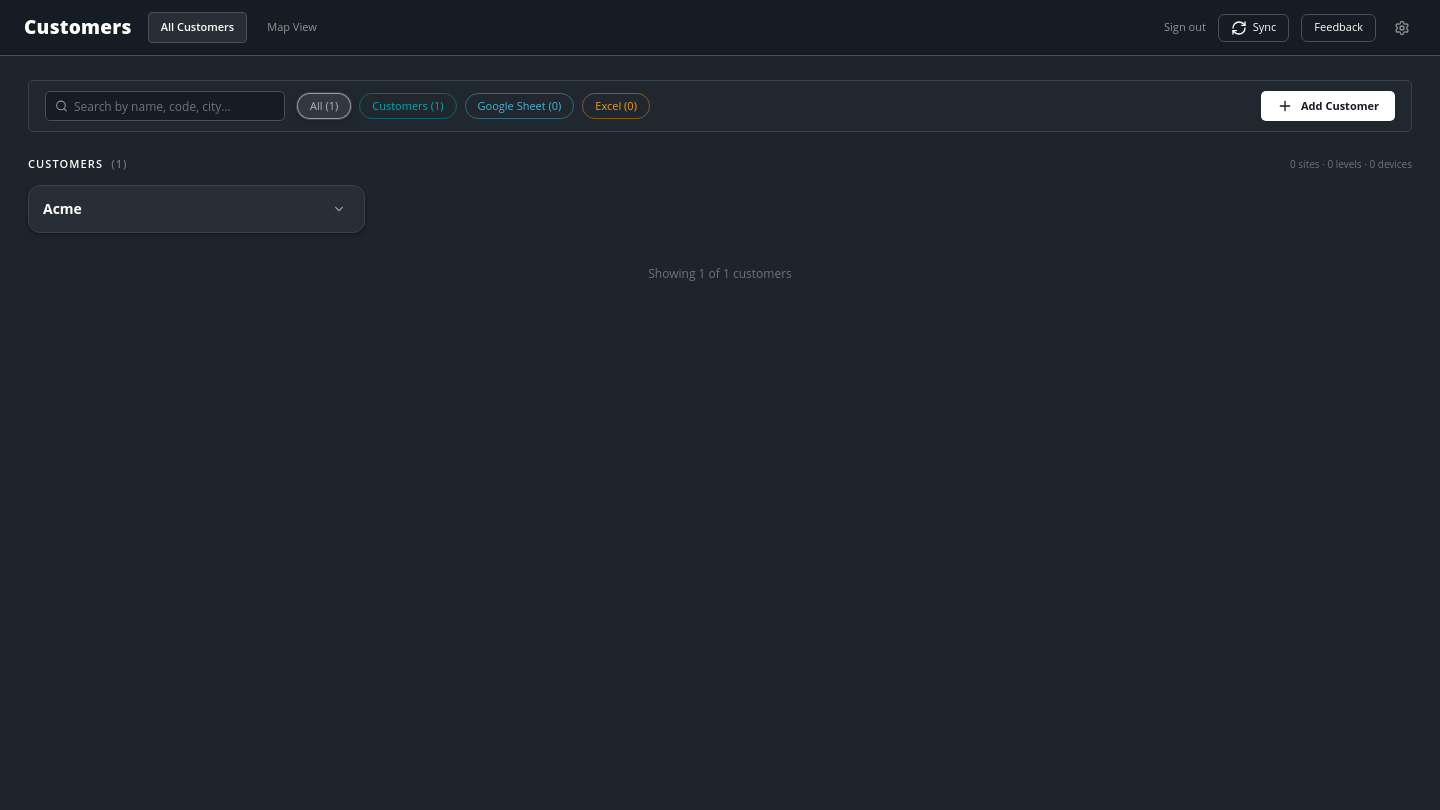
Test: Drive site-configs › asks before reloading an imported customer, offering merge and full reload
Click the button named "expand details" at (339, 208), box [328, 198, 350, 220]
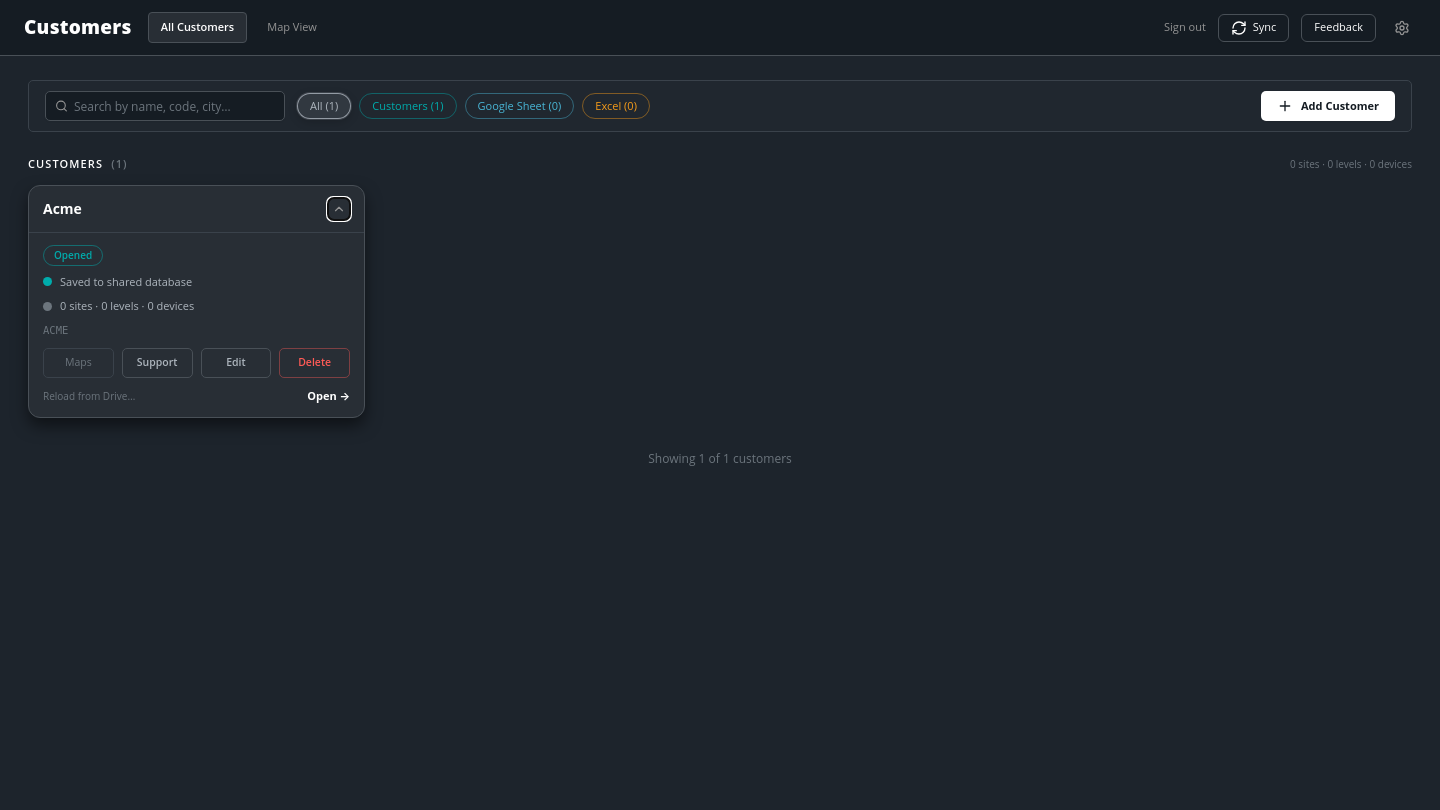
Click the button "Reload from Drive…" at (89, 396), box [43, 389, 135, 404]
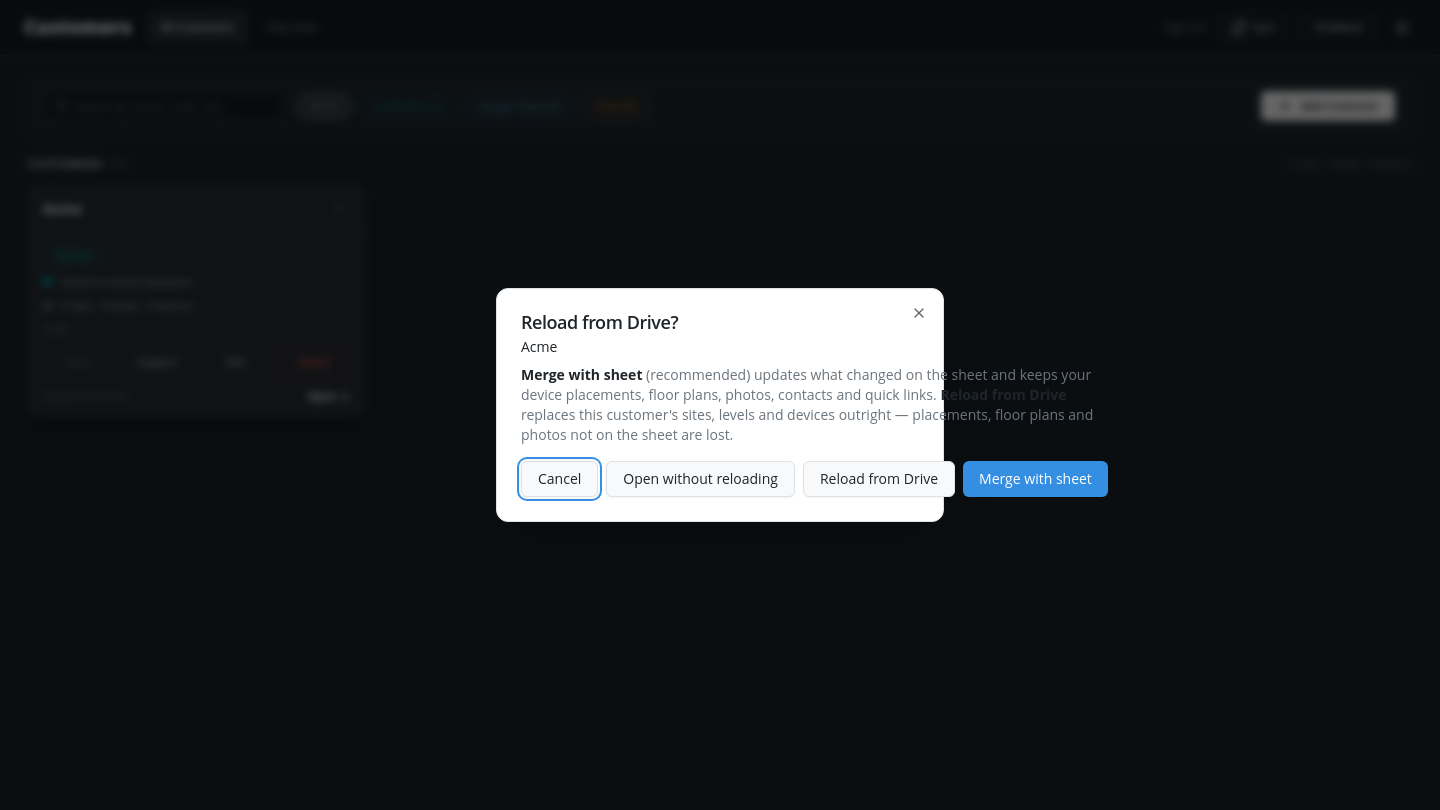
Result: the text "recommended" is shown at [521, 365, 1091, 404]
Result: the button "Merge with sheet" is shown at [963, 461, 1108, 497]
Result: the button "Reload from Drive" is shown at [803, 461, 955, 497]
